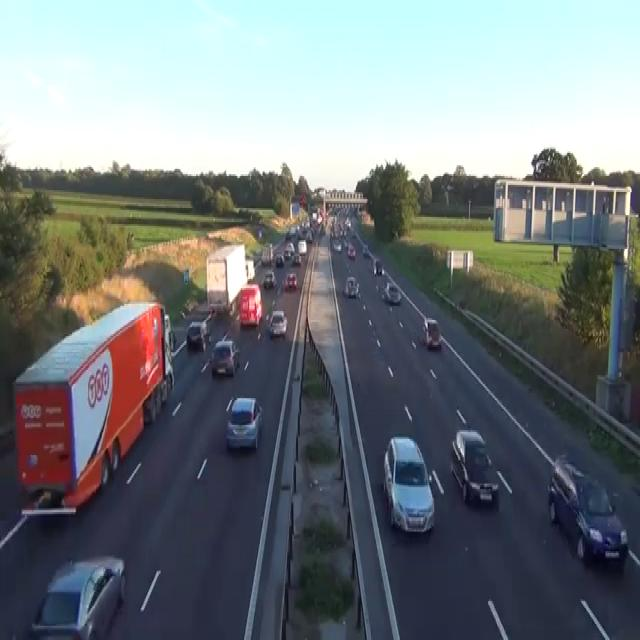Car: (547, 454, 628, 566), (29, 555, 126, 638), (382, 436, 435, 534), (450, 428, 499, 505), (143, 354, 174, 423), (225, 396, 263, 450), (209, 338, 240, 377), (186, 318, 210, 350), (421, 316, 442, 348), (268, 309, 287, 338), (164, 313, 176, 352), (382, 281, 401, 304), (343, 275, 359, 297), (165, 354, 174, 389), (283, 270, 297, 290), (262, 268, 276, 288), (209, 298, 226, 314), (183, 297, 198, 313), (373, 258, 383, 276), (283, 242, 294, 258), (169, 327, 176, 350), (297, 238, 306, 254), (347, 243, 355, 260), (275, 252, 284, 266), (292, 252, 301, 265), (333, 240, 341, 252), (209, 304, 217, 316), (362, 244, 369, 256), (305, 231, 312, 242), (299, 194, 306, 204), (344, 217, 351, 227), (343, 238, 349, 249), (285, 229, 290, 240), (350, 230, 356, 238), (258, 228, 262, 238)
Truck: (13, 300, 175, 518), (206, 242, 247, 314), (239, 283, 262, 327), (260, 242, 273, 265)
